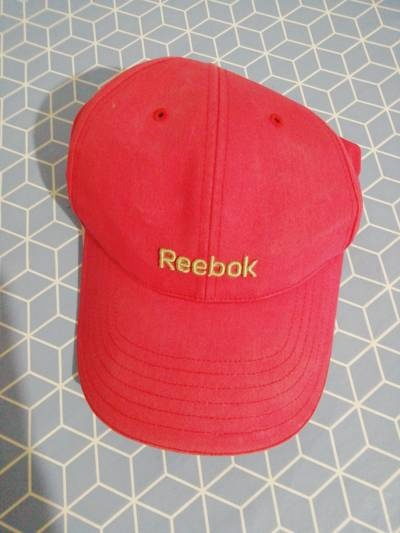Hat: (43, 31, 381, 459)
